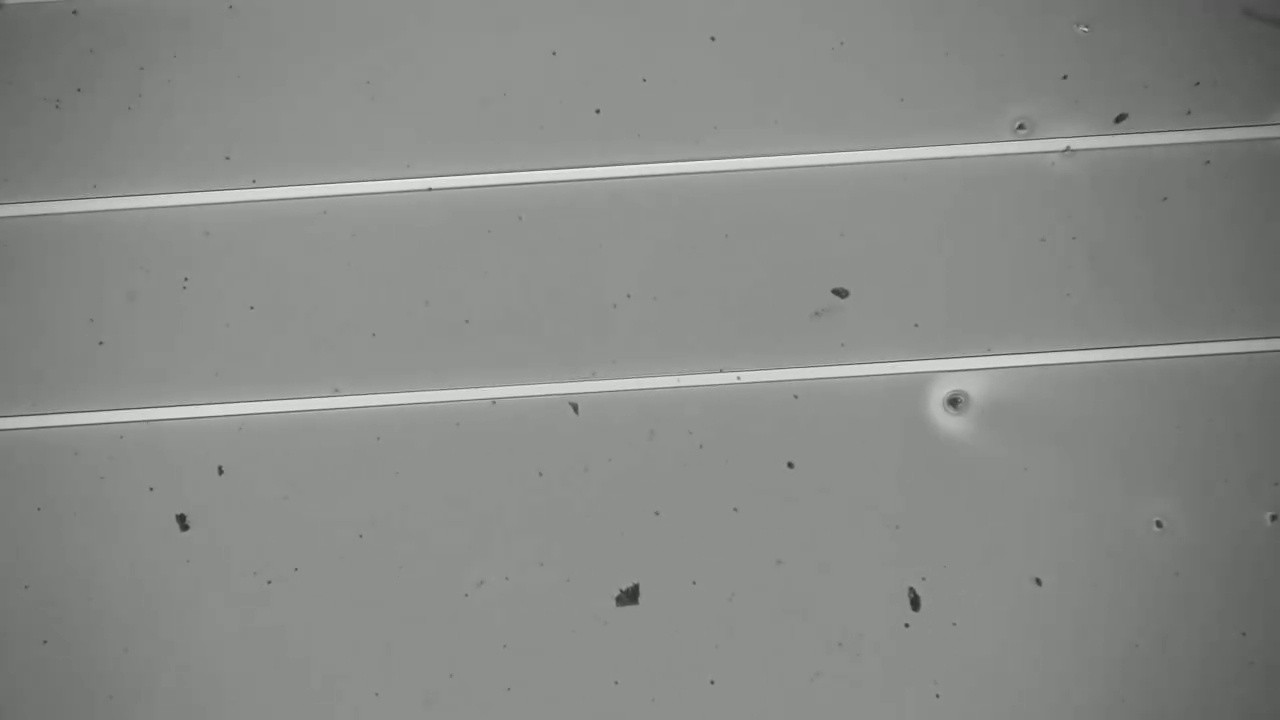stains_enbedded: (1053, 132, 1080, 162)
